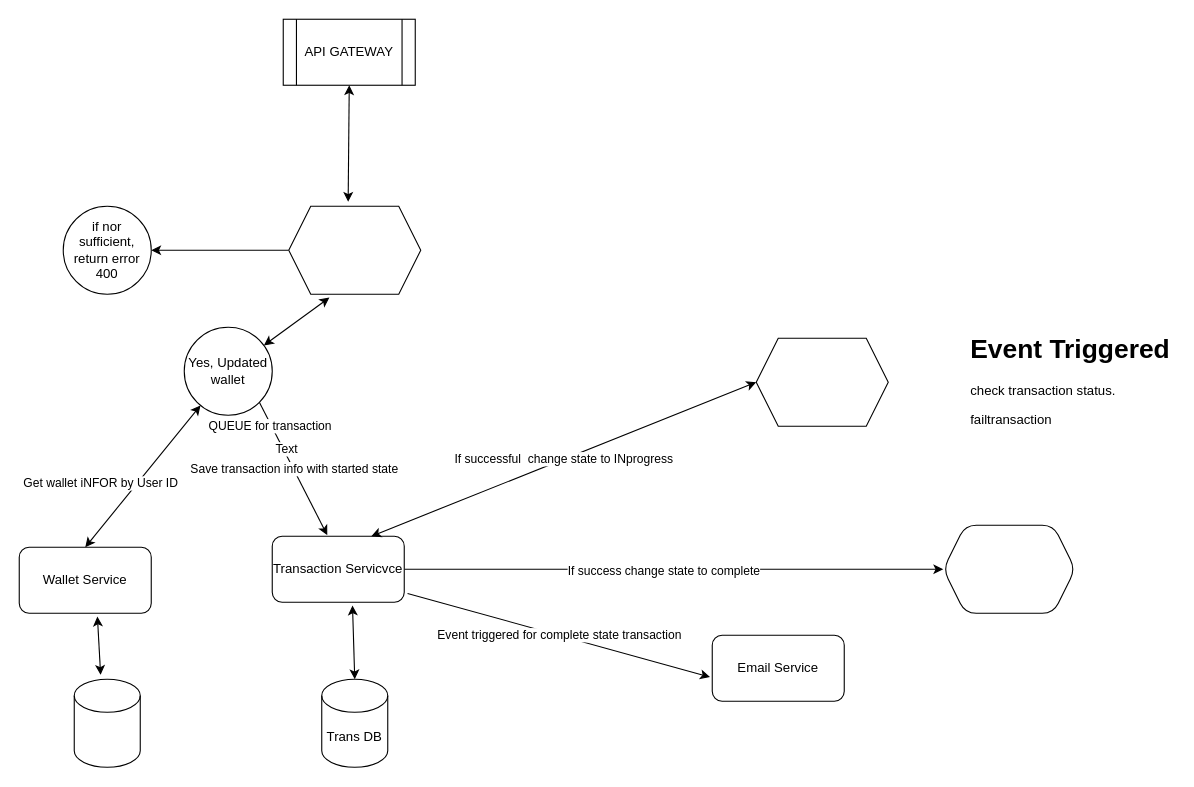
Some shapes in this 1194 by 787 pixel diagram are drawn without their labels. Here are the shapes that lost their labels. From the top down, the centre of each, then its label:
point (354, 249): Check wallet balance if sufficience
point (821, 381): Trigger API for transfer
point (1008, 568): If transaction is successful
point (106, 722): Wallet DB
